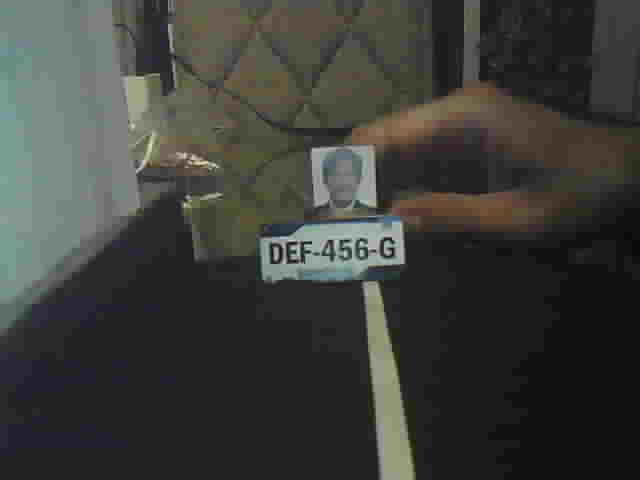PLACA: (255, 213, 408, 287)
ROSTRO: (310, 146, 375, 211)
